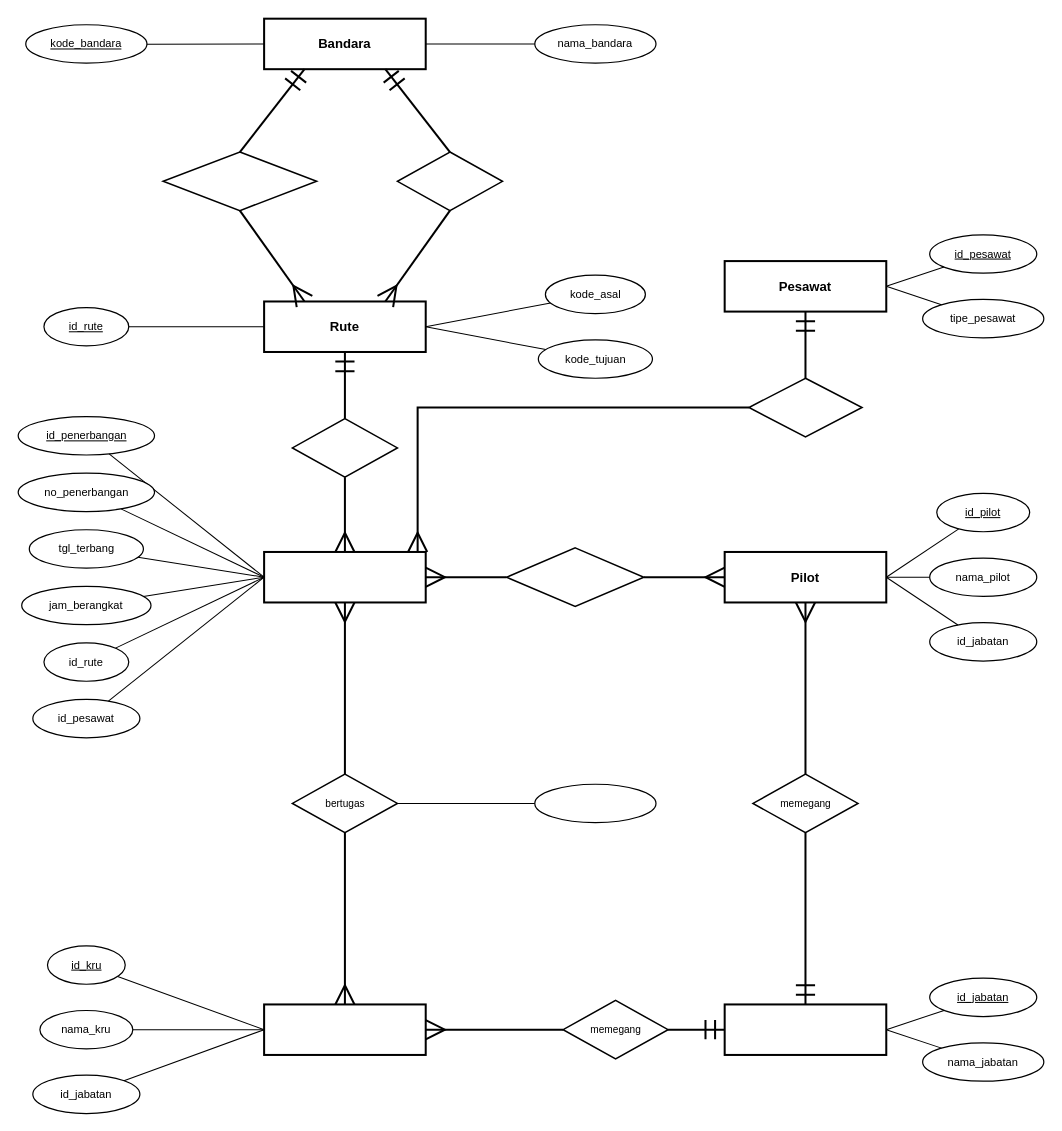
Image size: 1062x1131. Some labels were removed from this diagram. Here are the shapes that lost their labels. From the top down, the centre of each, then its label:
the point at 239,181: berangkat dari
the point at 449,181: menuju
the point at 805,407: digunakan
the point at 344,447: memiliki
the point at 344,576: Penerbangan
the point at 574,577: menerbangkan
the point at 595,803: status_tugas
the point at 344,1029: Kru
the point at 805,1029: Jabatan
